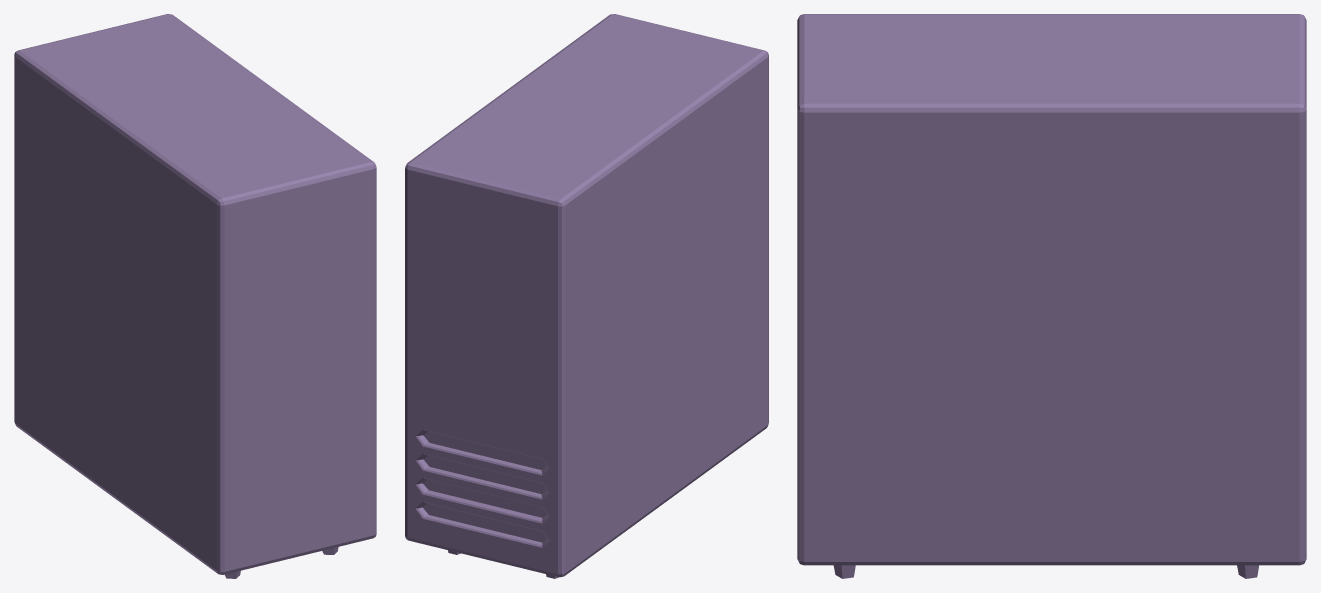
3 renders of one model, left to right at view 1: azimuth 30°, elevation 25°; view 2: azimuth 150°, elevation 25°; view 3: azimuth 270°, elevation 25°, orthographic. The views are drawn at different scales.
Visible parts, largest first — view 1: polySurface11; view 2: polySurface11; view 3: polySurface11.
Part boxes in pixels (box(x1,y1,x2,y2)): polySurface11: box(14, 14, 376, 578); polySurface11: box(405, 14, 768, 578); polySurface11: box(797, 14, 1306, 578).
Size of the model in its own units: 17.7 by 42.13 by 40.
